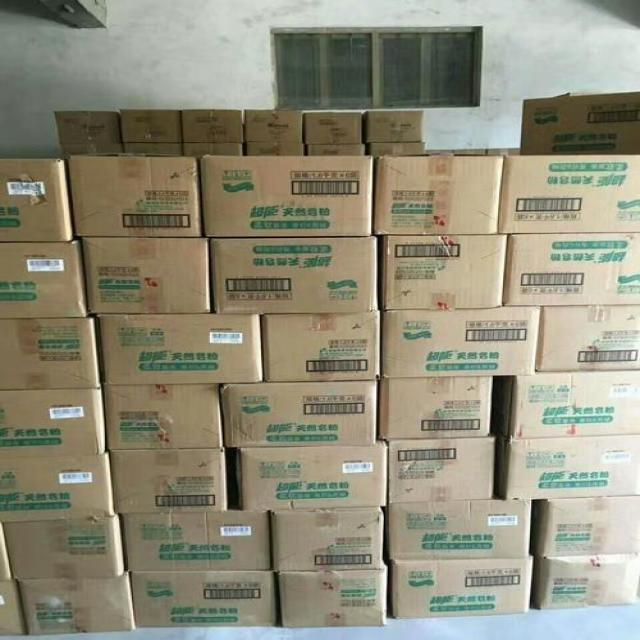box: (200, 151, 374, 243), (204, 228, 382, 312), (57, 152, 210, 243), (112, 500, 276, 580), (99, 312, 267, 386), (494, 153, 640, 238), (228, 432, 390, 508), (501, 225, 640, 309), (84, 232, 217, 318), (382, 492, 538, 565), (222, 380, 377, 452), (374, 160, 514, 238), (372, 234, 515, 307), (0, 512, 129, 590), (98, 383, 232, 458), (383, 560, 550, 620), (382, 308, 534, 373), (122, 576, 282, 636), (501, 370, 640, 439), (0, 310, 103, 396), (264, 312, 381, 386), (0, 228, 98, 316), (17, 569, 138, 640), (494, 439, 640, 497), (532, 303, 640, 381), (0, 380, 109, 456), (516, 495, 640, 560), (516, 90, 640, 154), (104, 452, 243, 509), (271, 502, 381, 573), (376, 378, 498, 441), (0, 454, 113, 521), (274, 564, 398, 622), (386, 440, 496, 502), (0, 155, 68, 244), (532, 560, 640, 612), (238, 104, 310, 150), (112, 104, 180, 150), (353, 104, 425, 146), (182, 105, 252, 148), (54, 102, 120, 146), (302, 104, 360, 150)
